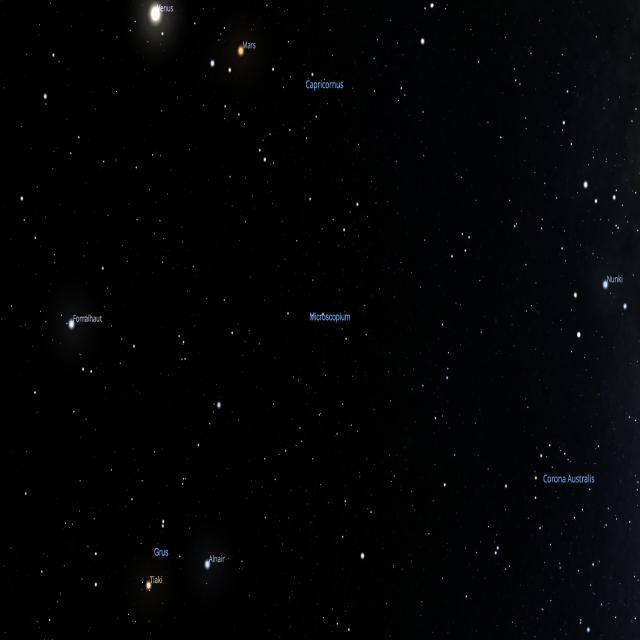Microscpium: (285, 308, 351, 344)
